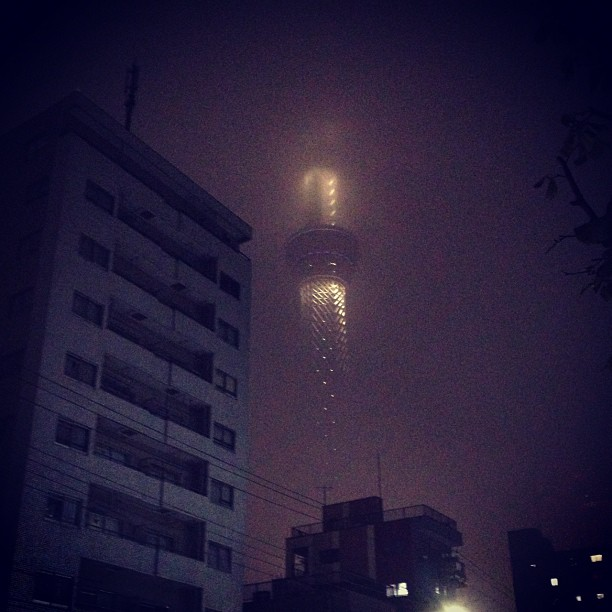building: (4, 99, 255, 609), (268, 55, 384, 482), (278, 481, 468, 612), (504, 519, 612, 612)
